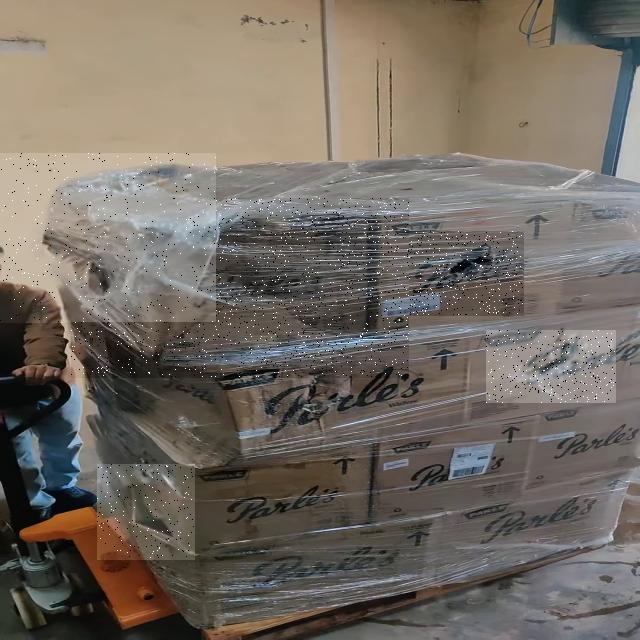squeeze: (71, 199, 409, 377), (0, 154, 216, 322)
tear: (377, 231, 523, 315), (486, 330, 616, 403), (98, 465, 194, 558)
